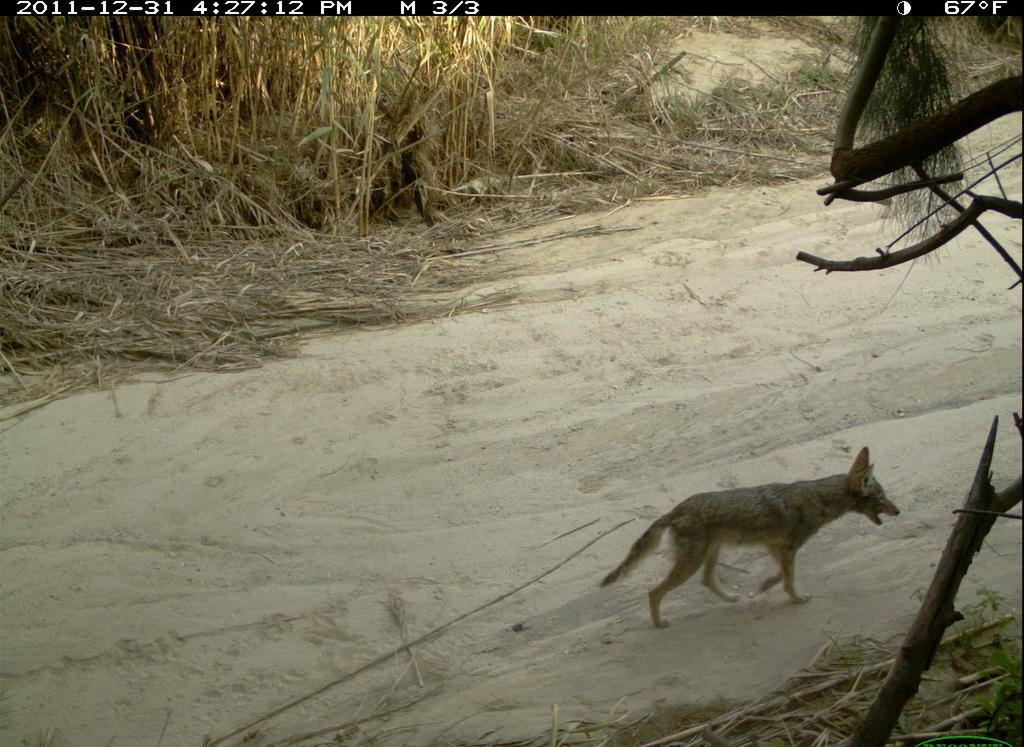coyote: (594, 440, 909, 634)
